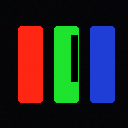4 line_v: (71, 35, 77, 81)
